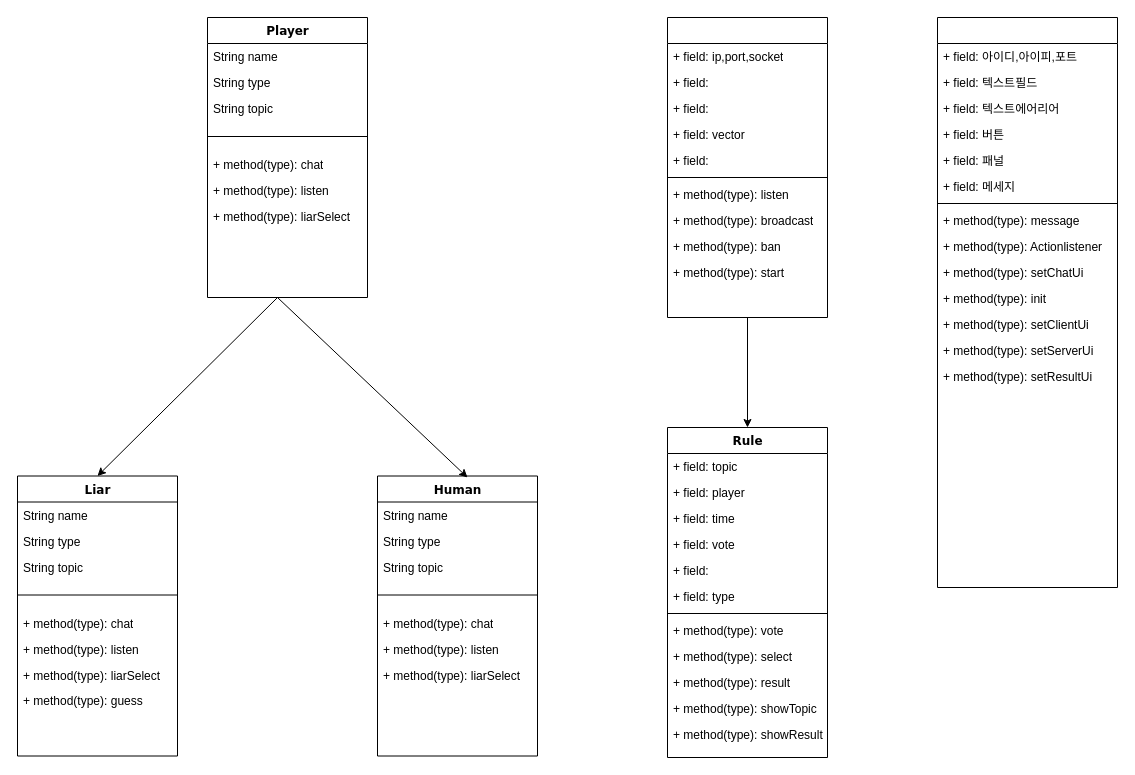
Some shapes in this 1135 by 775 pixel diagram are drawn without their labels. Each missing label, with the box of its shape:
GUI: (936, 16, 1118, 588)
Server: (666, 16, 828, 318)
